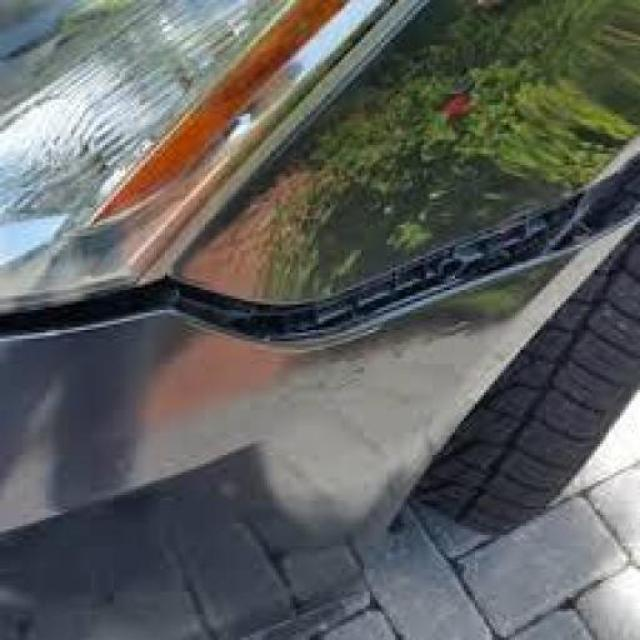misalignment: (3, 138, 639, 352)
